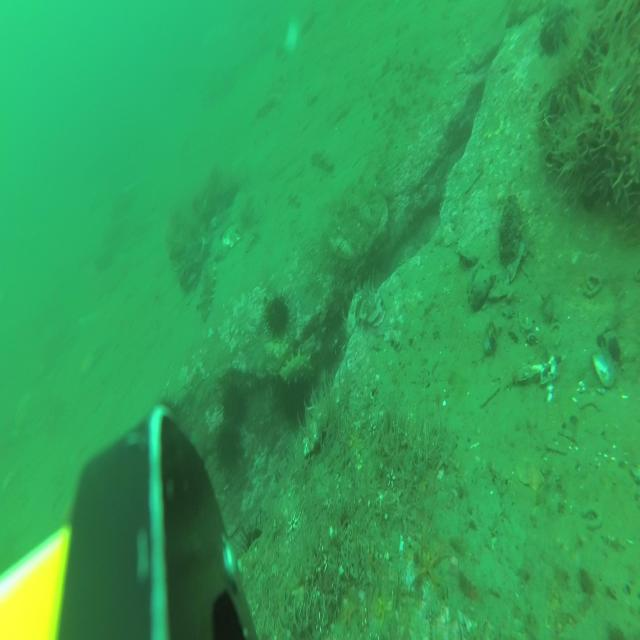echinus: (239, 512, 271, 567), (212, 424, 245, 475), (282, 376, 311, 429), (263, 290, 291, 344), (220, 380, 247, 430)
holothurian: (199, 263, 217, 323), (282, 351, 312, 385), (310, 149, 334, 174), (255, 95, 277, 118), (300, 8, 316, 38), (287, 189, 301, 210), (276, 36, 288, 58)
scallop: (516, 455, 546, 492), (223, 224, 241, 251), (306, 80, 321, 106)
starfish: (412, 538, 446, 591), (374, 591, 394, 625), (341, 602, 356, 633)
